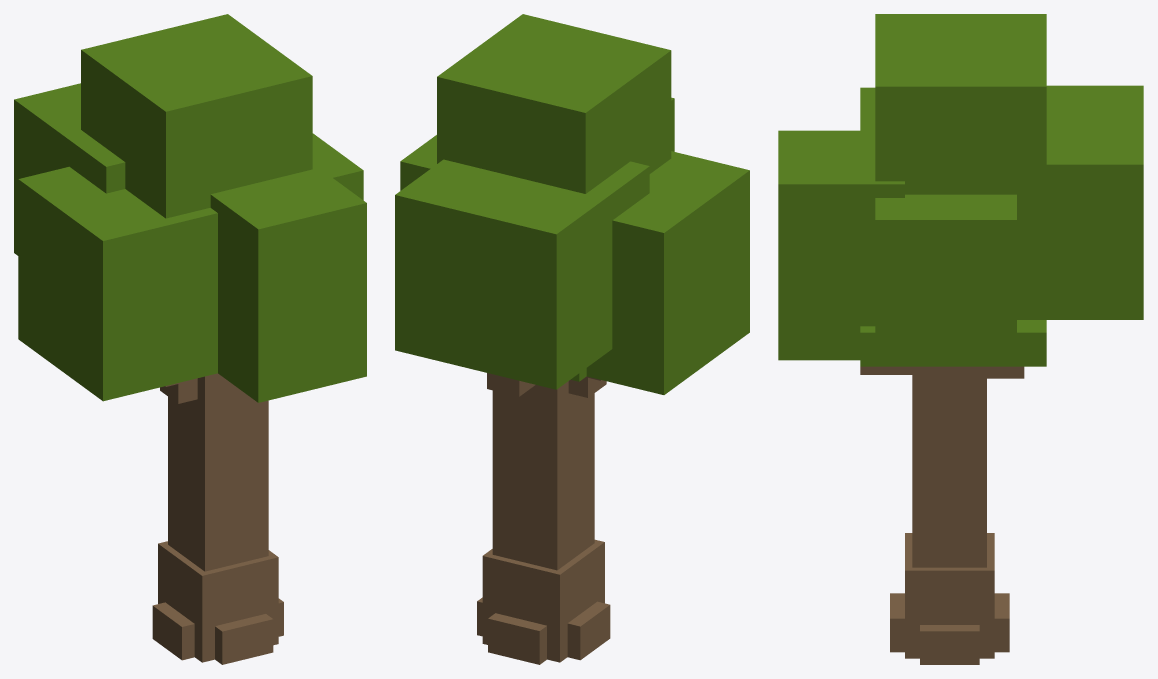
The model's file is tree_1.gltf.
3 renders of one model, left to right at view 1: azimuth 30°, elevation 25°; view 2: azimuth 150°, elevation 25°; view 3: azimuth 270°, elevation 25°, orthographic.
Parts seen in each view (by area): view 1: Node1; view 2: Node1; view 3: Node1.
Boxes of the visible parts, bbox=[...] form: Node1: bbox=[14, 14, 366, 664]; Node1: bbox=[395, 14, 749, 664]; Node1: bbox=[778, 14, 1143, 664].
Size of the model in its own units: 8.4 by 17.2 by 9.8.
Materials: 1 (1 with a texture image).
